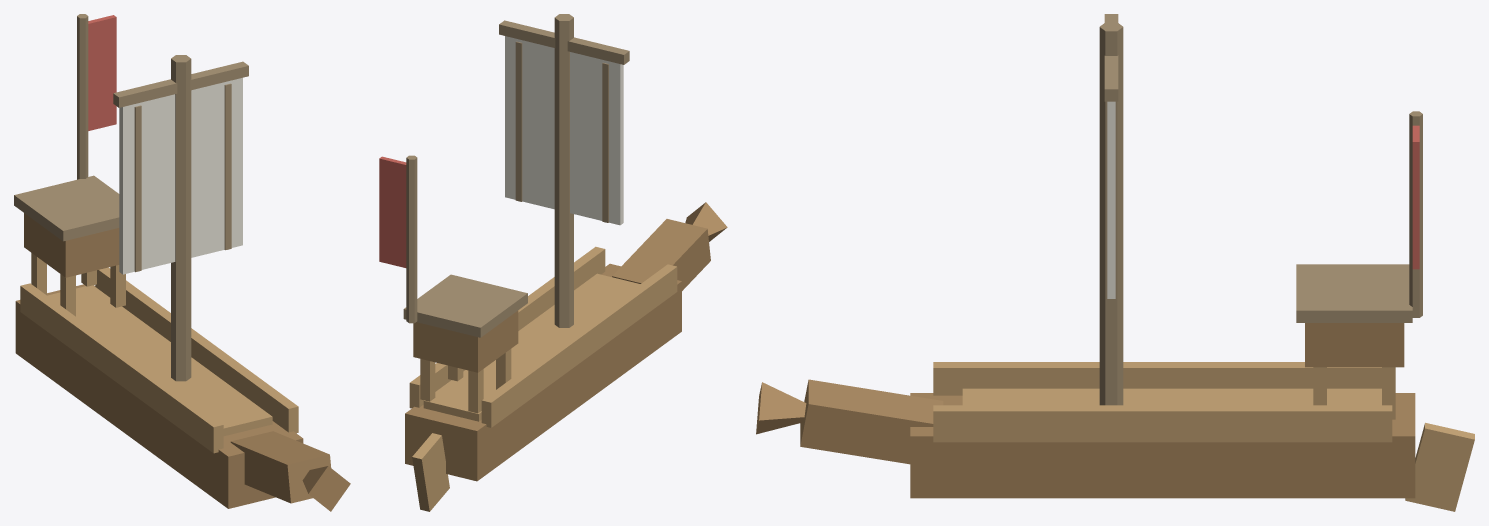
File: troop-waeseon.glb
3 views of the same model, side by side, from view 1: azimuth 30°, elevation 25°; view 2: azimuth 150°, elevation 25°; view 3: azimuth 270°, elevation 25° (orthographic). The views are drawn at different scales.
Visible parts, largest first — view 1: sail, body, deck, gunwale_l, mast, gunwale_r, yagura_roof, prow, yagura, nobori, sail_yard, nobori_pole (+4 smaller); view 2: sail, body, gunwale_l, deck, mast, yagura_roof, prow, yagura, nobori, gunwale_r, rudder, nobori_pole (+5 smaller); view 3: body, gunwale_r, gunwale_l, prow, deck, mast, yagura_roof, yagura, rudder, sail, nobori_pole, prow_tip (+2 smaller).
Boxes of the visible parts, <box> form: sail: <box>119,77,242,274</box>; body: <box>15,284,303,508</box>; deck: <box>47,285,272,436</box>; gunwale_l: <box>20,283,223,453</box>; mast: <box>171,55,191,381</box>; gunwale_r: <box>95,267,298,433</box>; yagura_roof: <box>14,175,119,241</box>; prow: <box>230,431,331,503</box>; yagura: <box>24,213,119,277</box>; nobori: <box>88,15,116,130</box>; sail_yard: <box>113,61,248,107</box>; nobori_pole: <box>77,14,88,179</box>; sail: <box>505,36,623,225</box>; body: <box>405,263,681,481</box>; gunwale_l: <box>481,264,677,427</box>; deck: <box>423,273,640,421</box>; mast: <box>554,14,573,327</box>; yagura_roof: <box>403,274,527,337</box>; prow: <box>612,219,710,290</box>; yagura: <box>413,310,518,372</box>; nobori: <box>379,156,406,267</box>; gunwale_r: <box>409,246,605,408</box>; rudder: <box>412,433,449,511</box>; nobori_pole: <box>406,155,417,323</box>; body: <box>910,393,1415,498</box>; gunwale_r: <box>933,405,1392,442</box>; gunwale_l: <box>933,362,1381,395</box>; prow: <box>800,379,943,464</box>; deck: <box>962,388,1381,405</box>; mast: <box>1099,22,1123,405</box>; yagura_roof: <box>1296,264,1412,322</box>; yagura: <box>1305,323,1404,367</box>; rudder: <box>1405,422,1474,511</box>; sail: <box>1105,101,1117,298</box>; nobori_pole: <box>1409,111,1422,317</box>; prow_tip: <box>756,382,806,434</box>.
Bounding box in the file's own units: 0.104 × 0.3109 × 0.42.
